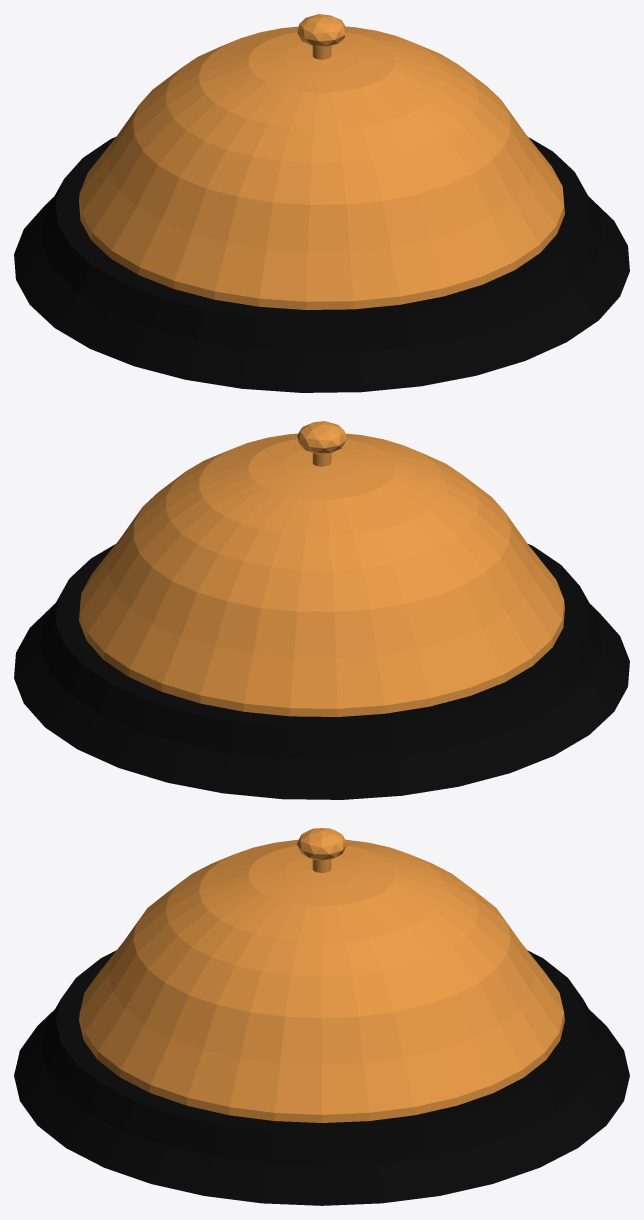
Rendered from bell.glb.
The picture shows the model from 3 angles, top to bottom: view 1: azimuth 30°, elevation 25°; view 2: azimuth 150°, elevation 25°; view 3: azimuth 270°, elevation 25°; orthographic projection.
Visible parts, largest first — view 1: Bell, Holder, Button; view 2: Bell, Holder, Button; view 3: Bell, Holder, Button.
Boxes of the visible parts, x1,y1,x2,y2 form: Bell: (79, 26, 564, 309); Holder: (14, 137, 629, 392); Button: (297, 14, 346, 47); Bell: (79, 433, 564, 716); Holder: (14, 544, 629, 799); Button: (297, 421, 346, 454); Bell: (79, 839, 564, 1122); Holder: (14, 950, 629, 1205); Button: (297, 828, 346, 859).
Size of the model in its own units: 0.3606 by 0.1581 by 0.3606.
